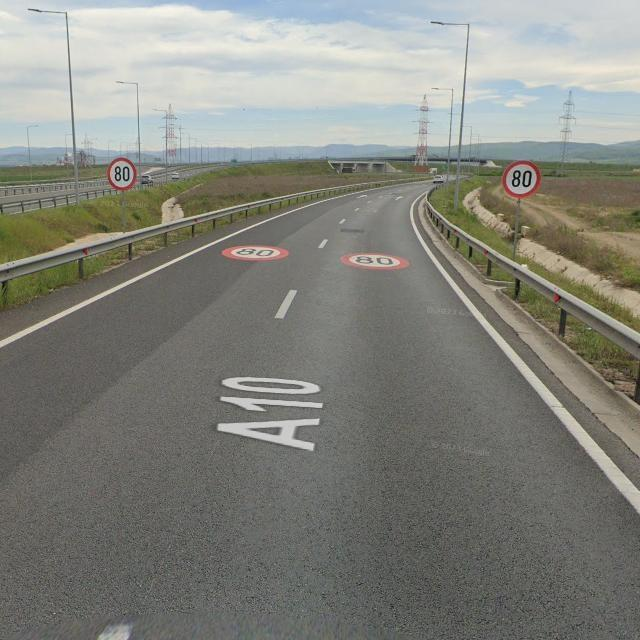forb_speed_over_80: (502, 161, 541, 199), (341, 252, 411, 271), (220, 244, 290, 262), (107, 157, 137, 191)
